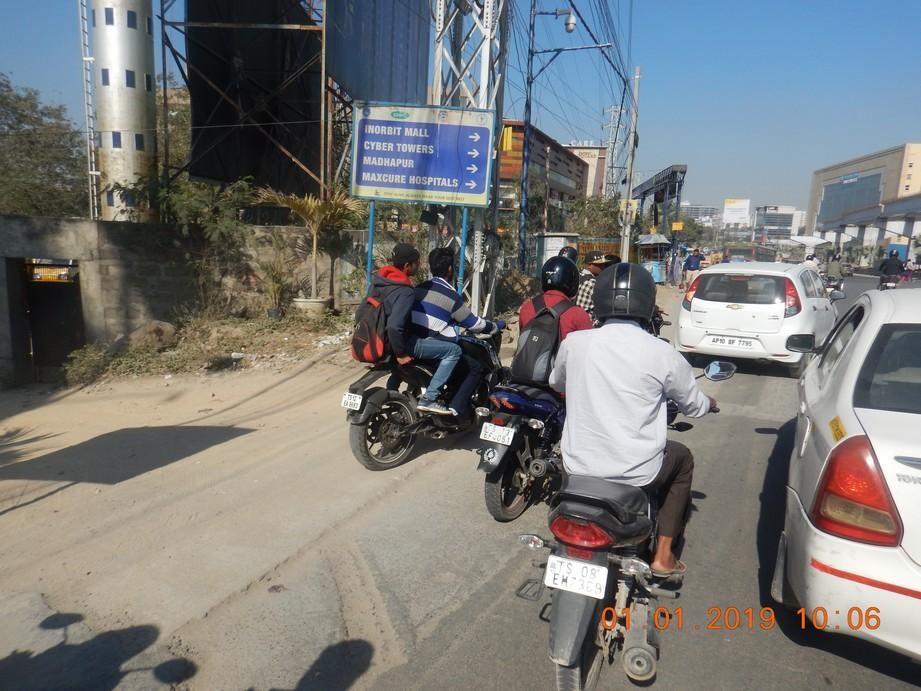plate: (543, 554, 608, 599), (482, 421, 514, 447), (341, 392, 362, 410)
